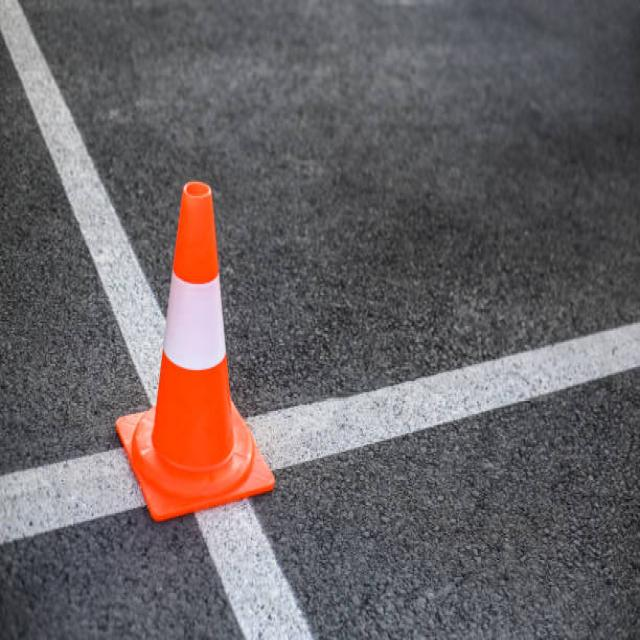Traffic Cone: (101, 160, 292, 532)
